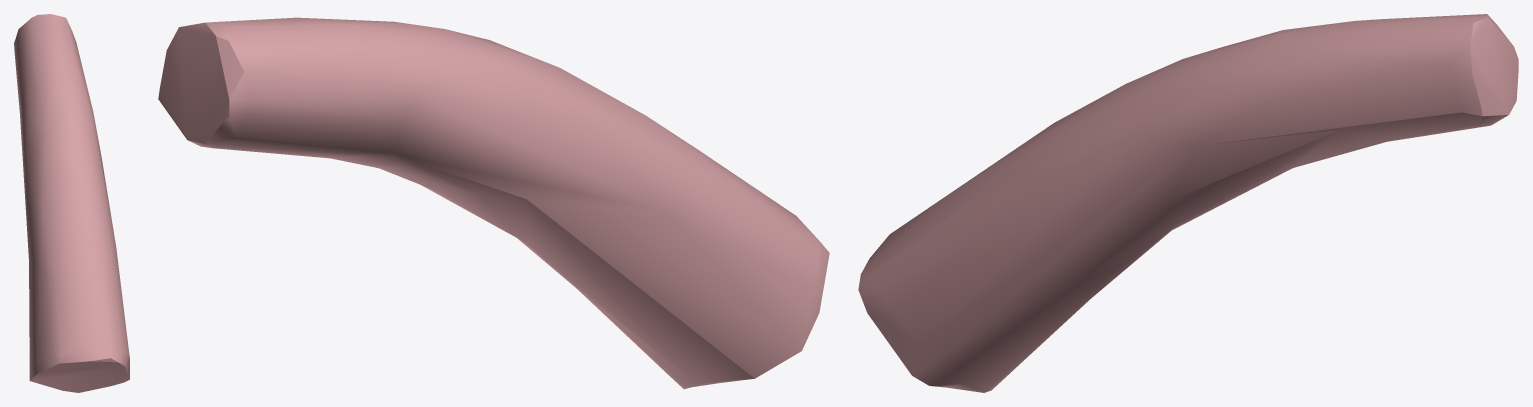
File: fma68213_fj2518.glb
3 renders of one model, left to right at view 1: azimuth 30°, elevation 25°; view 2: azimuth 150°, elevation 25°; view 3: azimuth 270°, elevation 25°, orthographic. The views are drawn at different scales.
Parts seen in each view (by area): view 1: FMA68213_FJ2518; view 2: FMA68213_FJ2518; view 3: FMA68213_FJ2518.
Boxes of the visible parts, <box> form: FMA68213_FJ2518: <box>14,14,129,392</box>; FMA68213_FJ2518: <box>158,17,829,389</box>; FMA68213_FJ2518: <box>858,14,1518,392</box>.
Bounding box in the file's own units: 0.00502 × 0.00676 × 0.00878.
